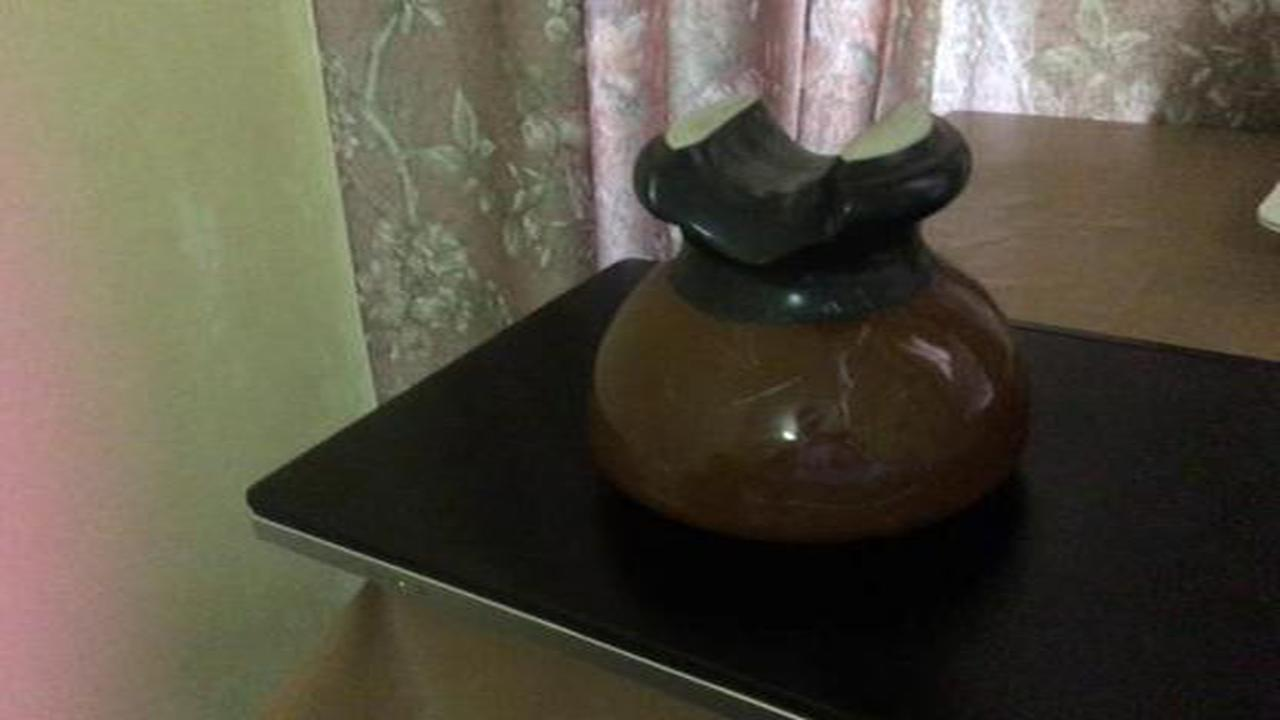insulator_pin: (554, 78, 1059, 547)
